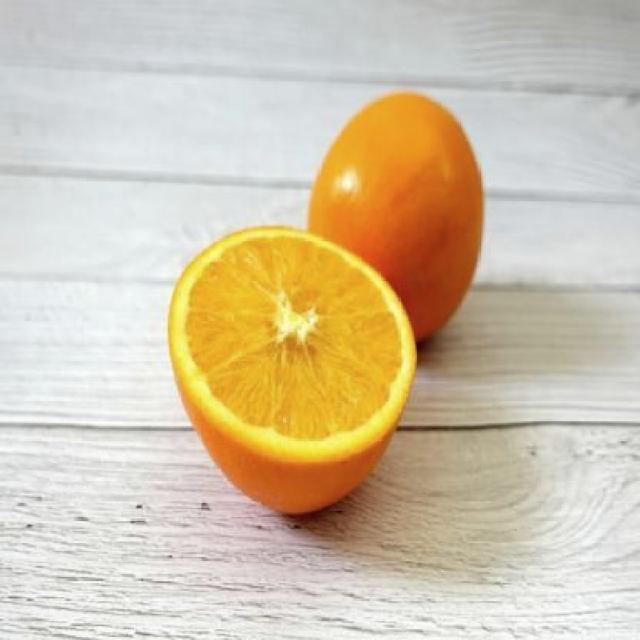Jeruk Sudah Matang: (304, 92, 487, 348)
